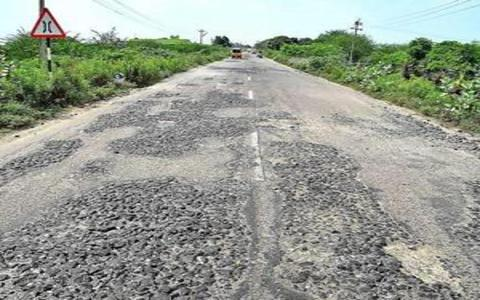patchy roads: (10, 164, 258, 289), (283, 151, 466, 294), (102, 84, 258, 157)
